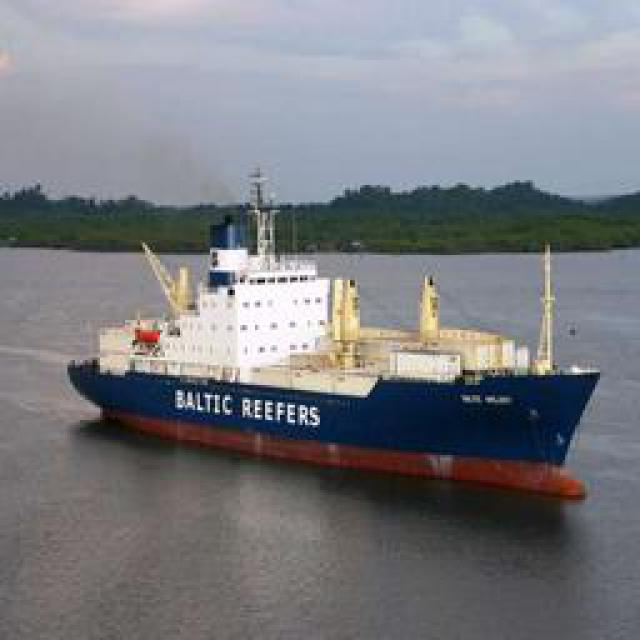Ship: (69, 173, 612, 491)
